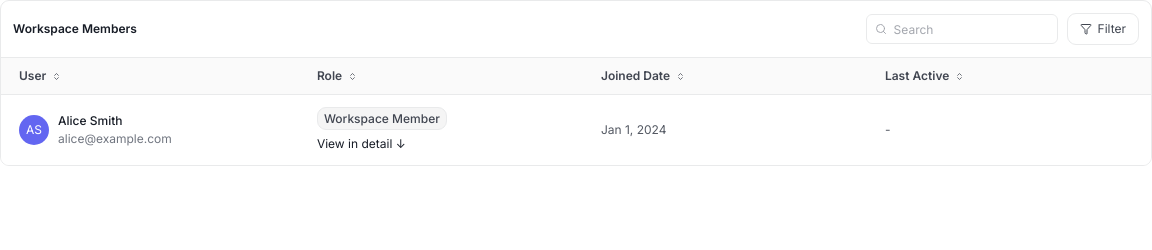
MembersTable › Expand access details › shows loading state for access details
Click the button "View in detail ↓": [361, 144] box [317,134,406,152]
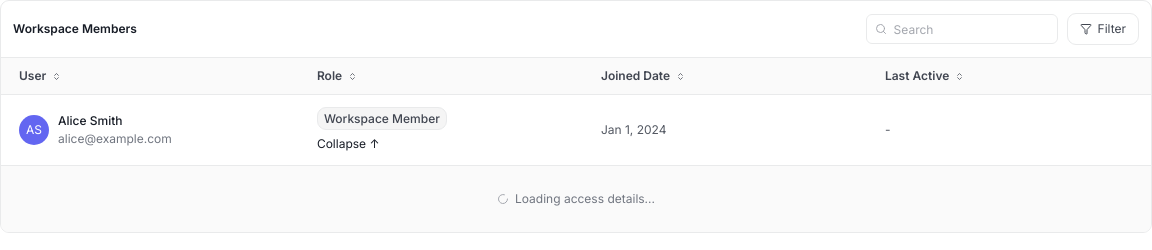
Expected: the text "Loading access details..." is shown, [515,190,655,208]
